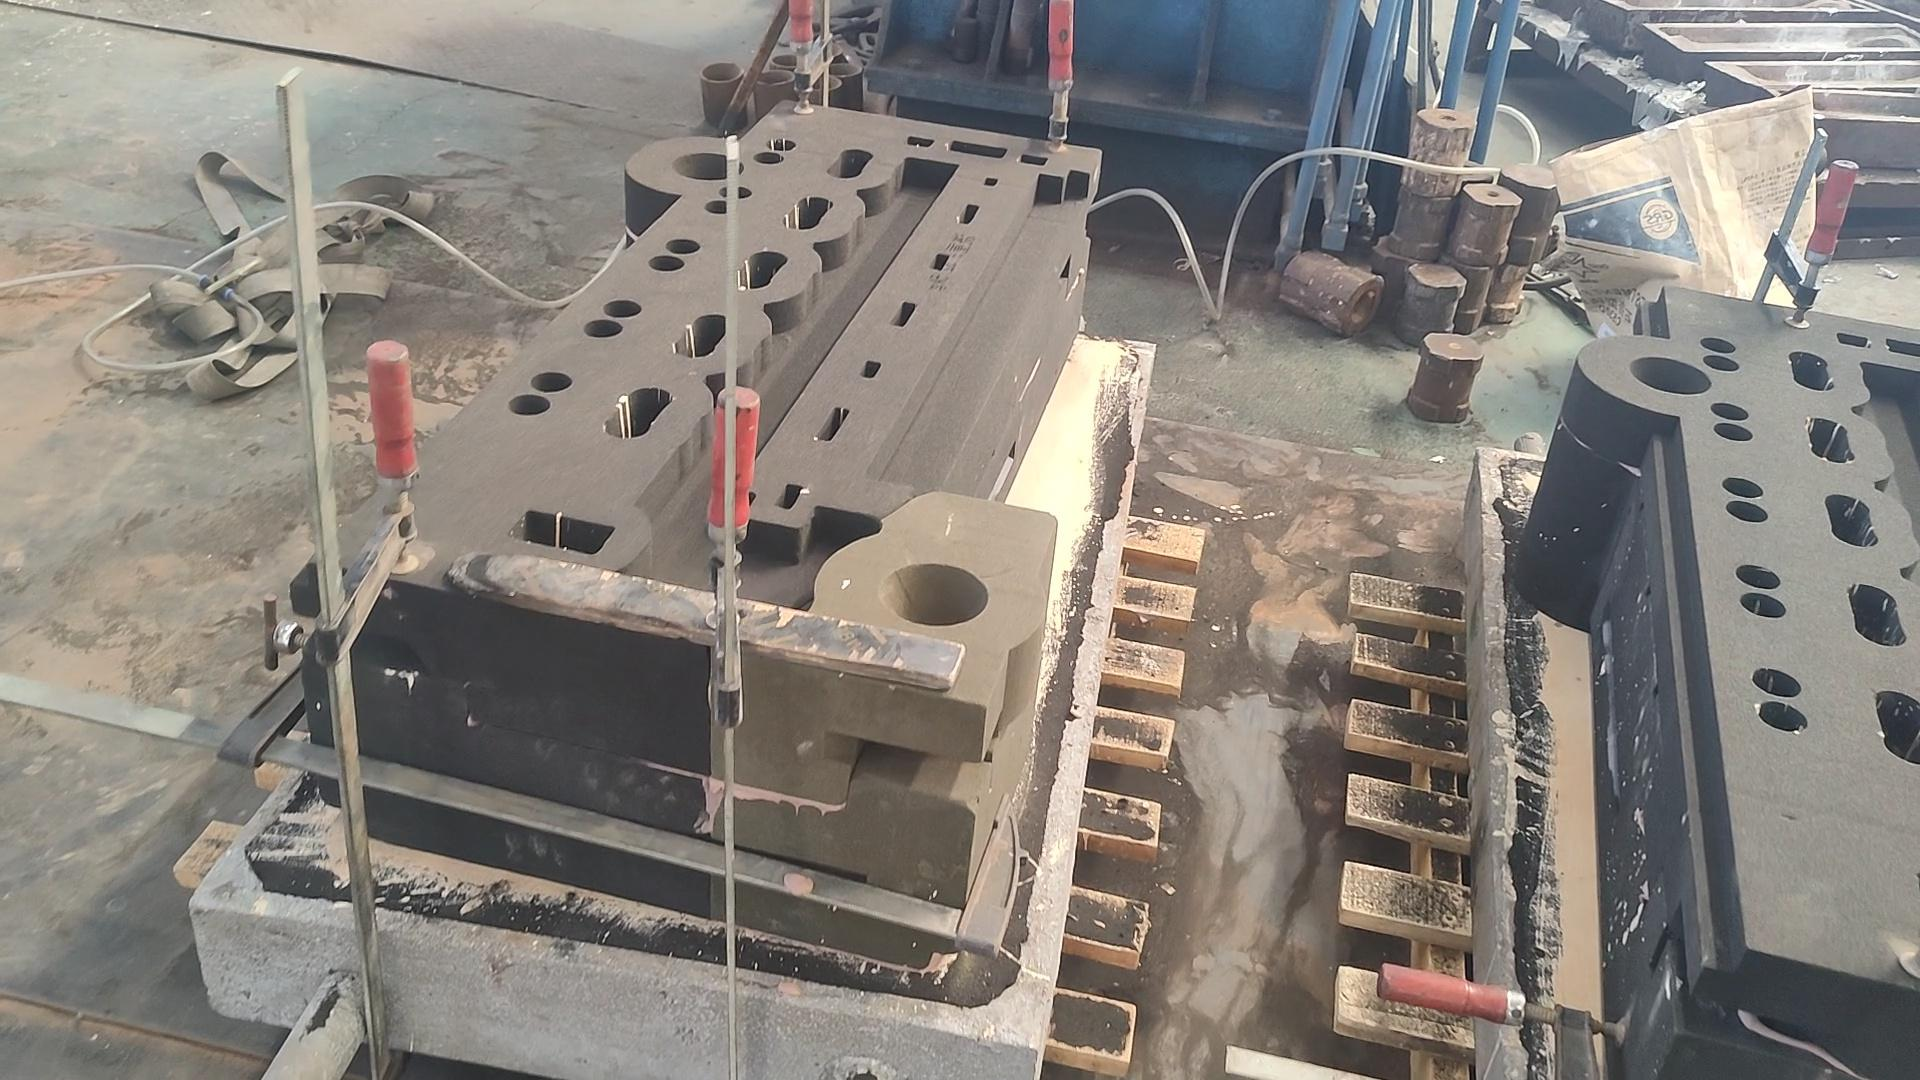pouring hole: (877, 563, 988, 626), (1633, 356, 1713, 396), (671, 152, 745, 181), (702, 62, 744, 80), (818, 62, 862, 76), (796, 76, 840, 91), (753, 70, 795, 84), (803, 44, 841, 57), (771, 54, 804, 69)
